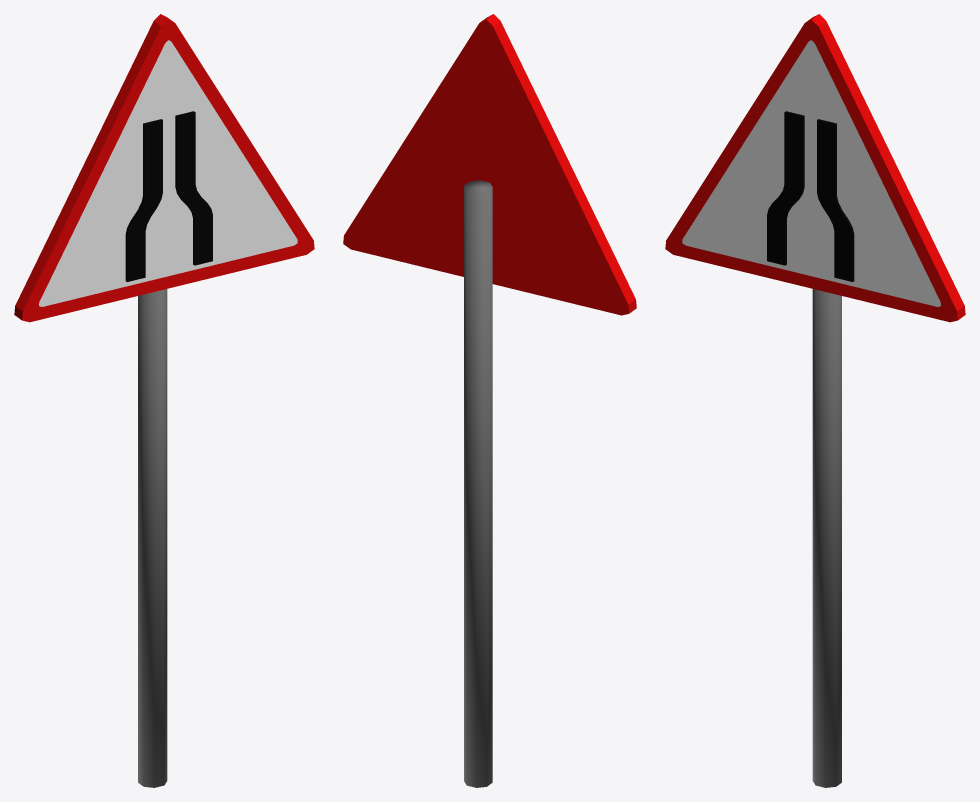
Rendered from Prop_StreetSign_TwoRoads.fbx.
3 views of the same model, side by side, from view 1: azimuth 30°, elevation 25°; view 2: azimuth 150°, elevation 25°; view 3: azimuth 330°, elevation 25° (orthographic). The views are drawn at different scales.
Visible parts, largest first — view 1: Prop_StreetSign_TwoRoads; view 2: Prop_StreetSign_TwoRoads; view 3: Prop_StreetSign_TwoRoads.
Part boxes in pixels (x1,y1,x2,y2): Prop_StreetSign_TwoRoads: (14, 14, 314, 787); Prop_StreetSign_TwoRoads: (343, 14, 636, 787); Prop_StreetSign_TwoRoads: (665, 14, 965, 787).
Size of the model in its own units: 166 by 420 by 23.95.
